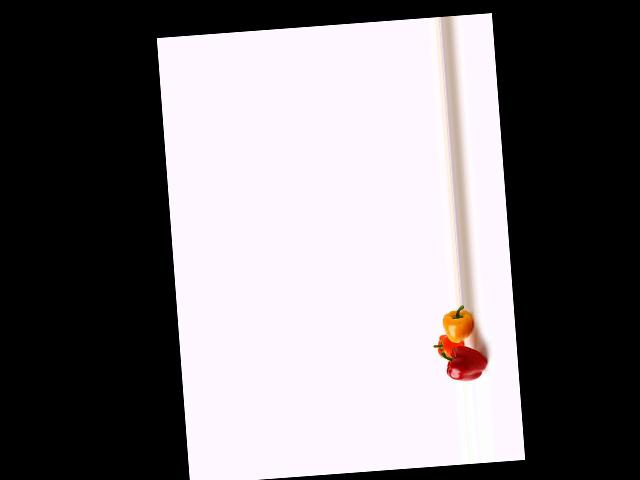bell_pepper: (436, 342, 492, 383)
